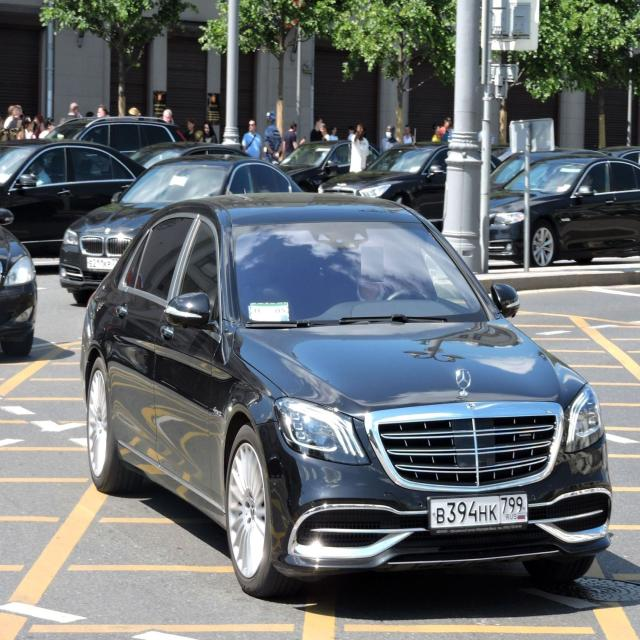car: (80, 191, 613, 598), (58, 156, 305, 304), (0, 138, 148, 254), (488, 156, 640, 267), (0, 208, 37, 355)
license: (428, 492, 528, 532)
